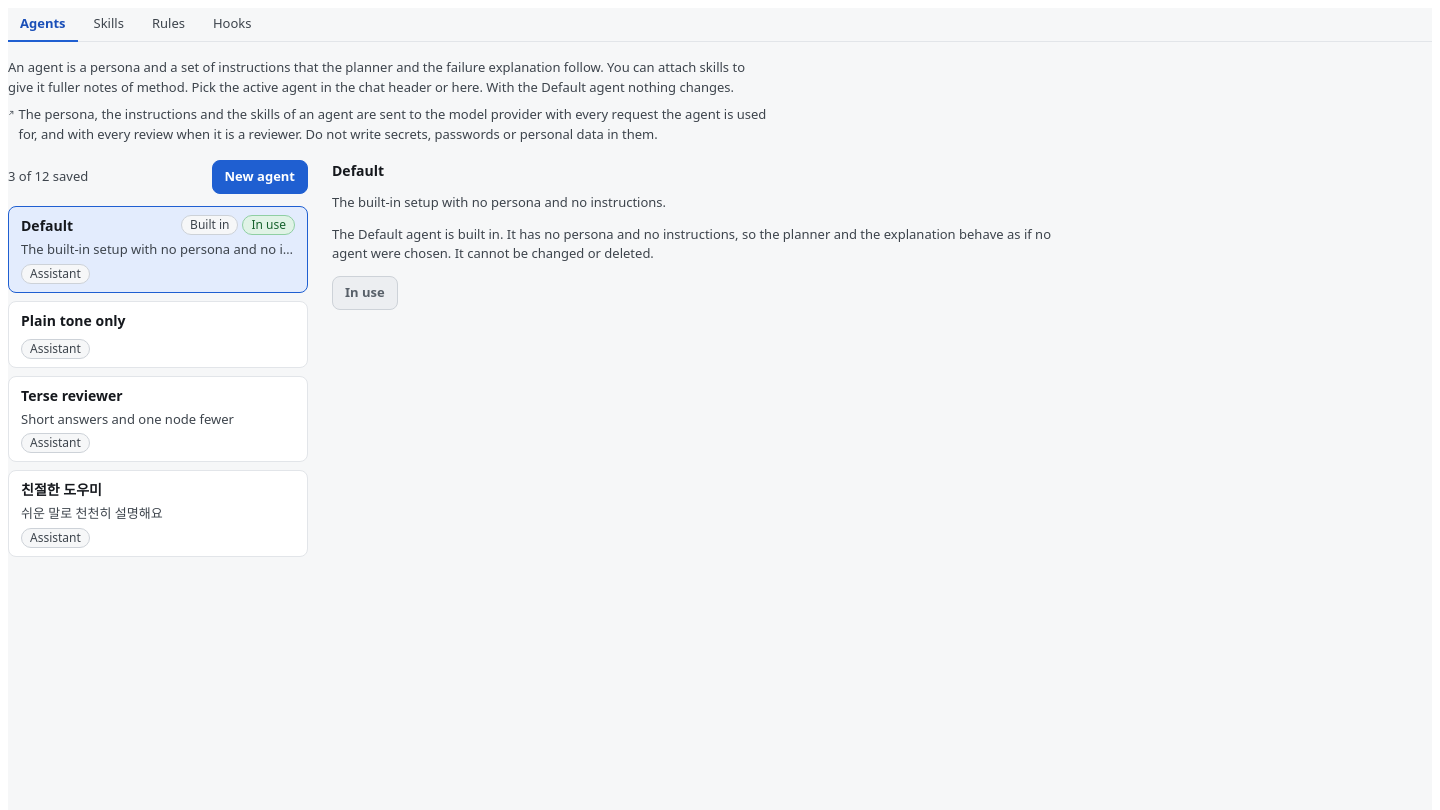
Test: AgentsTab › switches to the Skills screen and back, and keeps the focus on the button that was pressed
Expected: the list named "Agent list" is shown, top-left (8, 206), bottom-right (308, 556)
Click the button "Skills" at (109, 25), box top-left (82, 8), bottom-right (136, 42)
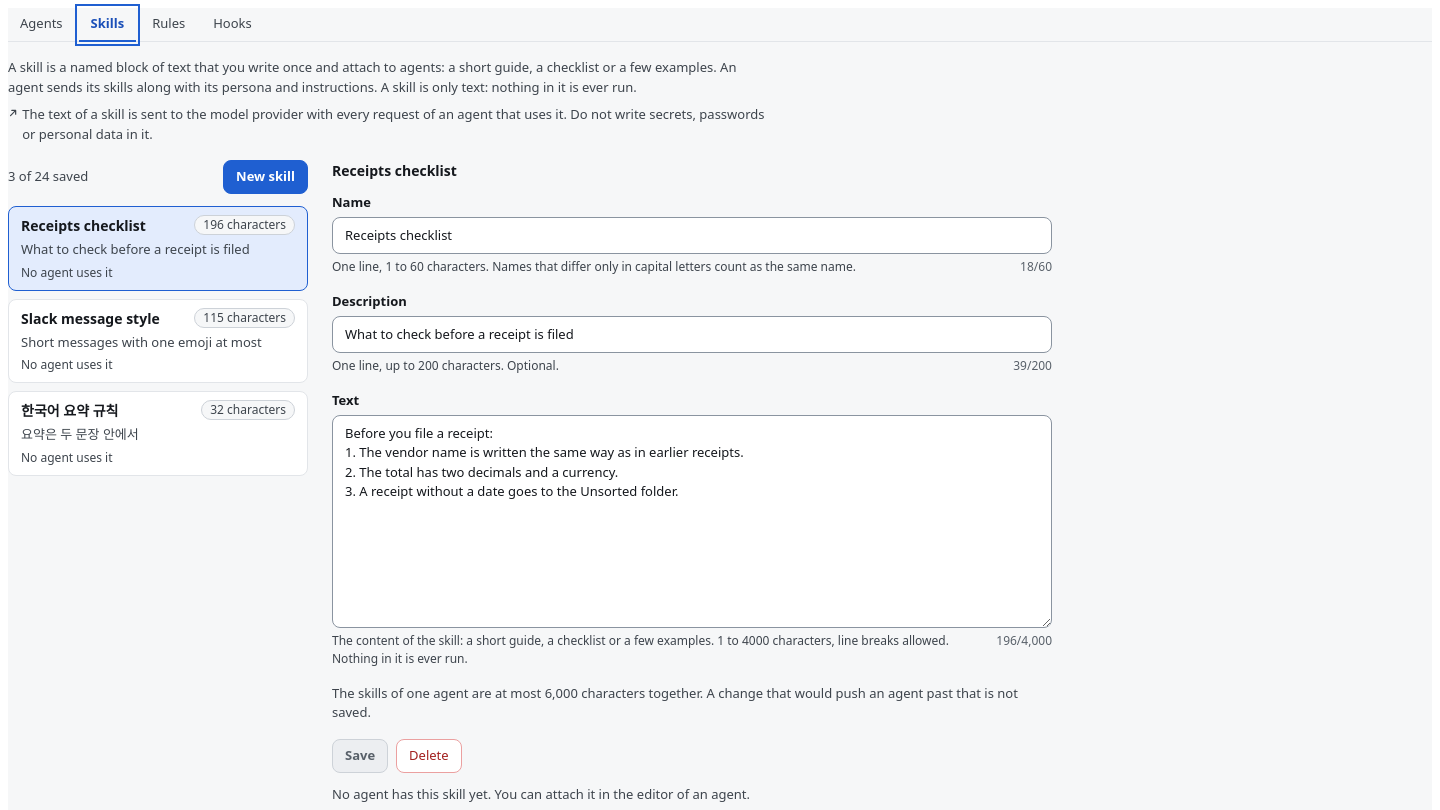
Expected: the list named "Skill list" is shown, top-left (8, 206), bottom-right (308, 476)
Click the button "Agents" at (41, 25), box top-left (8, 8), bottom-right (75, 42)
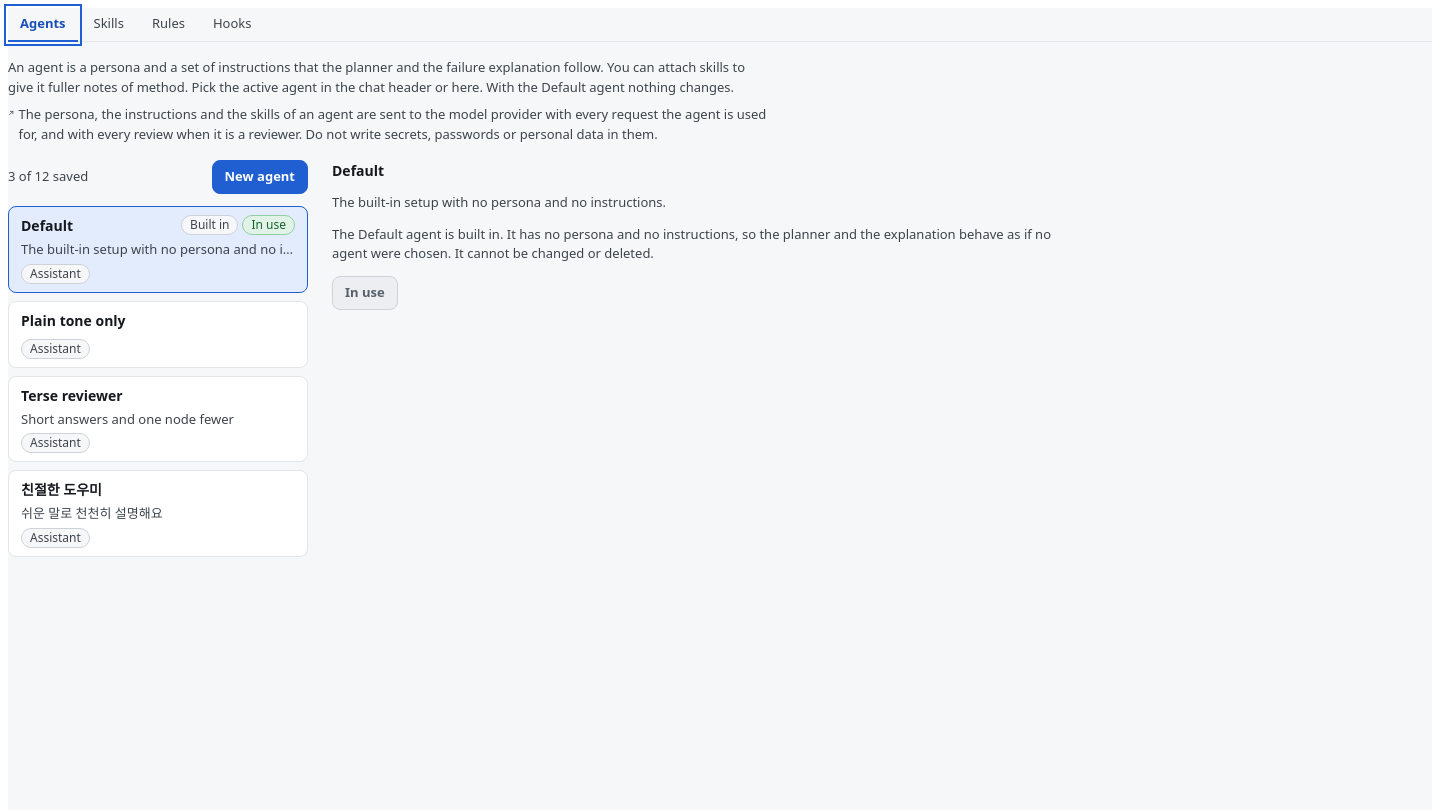
Expected: the list named "Agent list" is shown, top-left (8, 206), bottom-right (308, 556)
